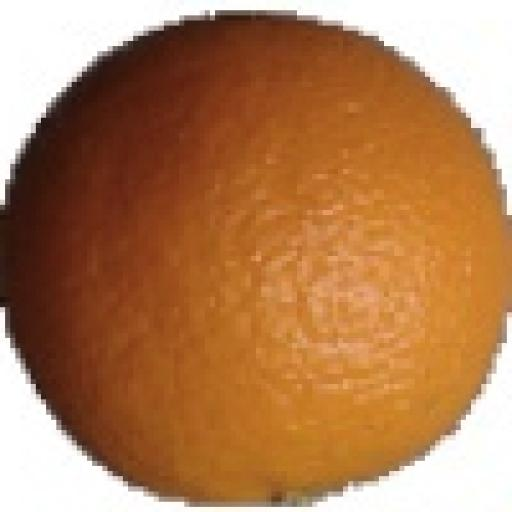orange: (5, 15, 505, 500)
